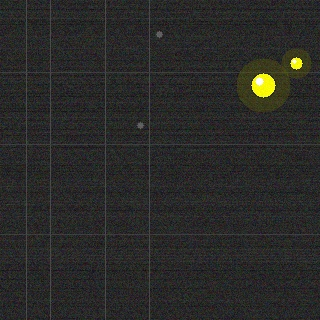yellow_warning: (249, 71, 277, 99), (288, 55, 304, 71)
